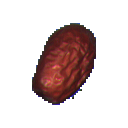gd: (22, 11, 123, 108)
